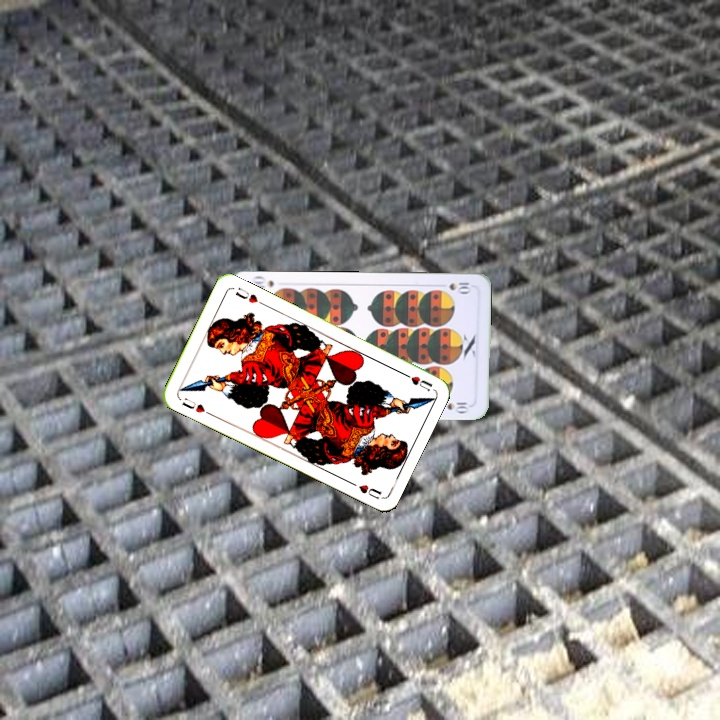HU: (398, 368, 435, 394), (178, 394, 208, 416)
S10: (434, 278, 474, 295)
